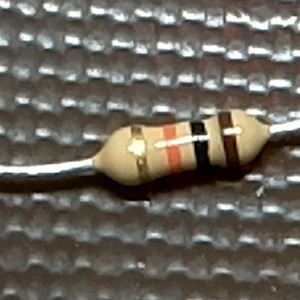black_band: (188, 119, 216, 172)
brown_band: (216, 109, 246, 170)
gold_band: (127, 122, 155, 188)
orange_band: (161, 122, 186, 176)
